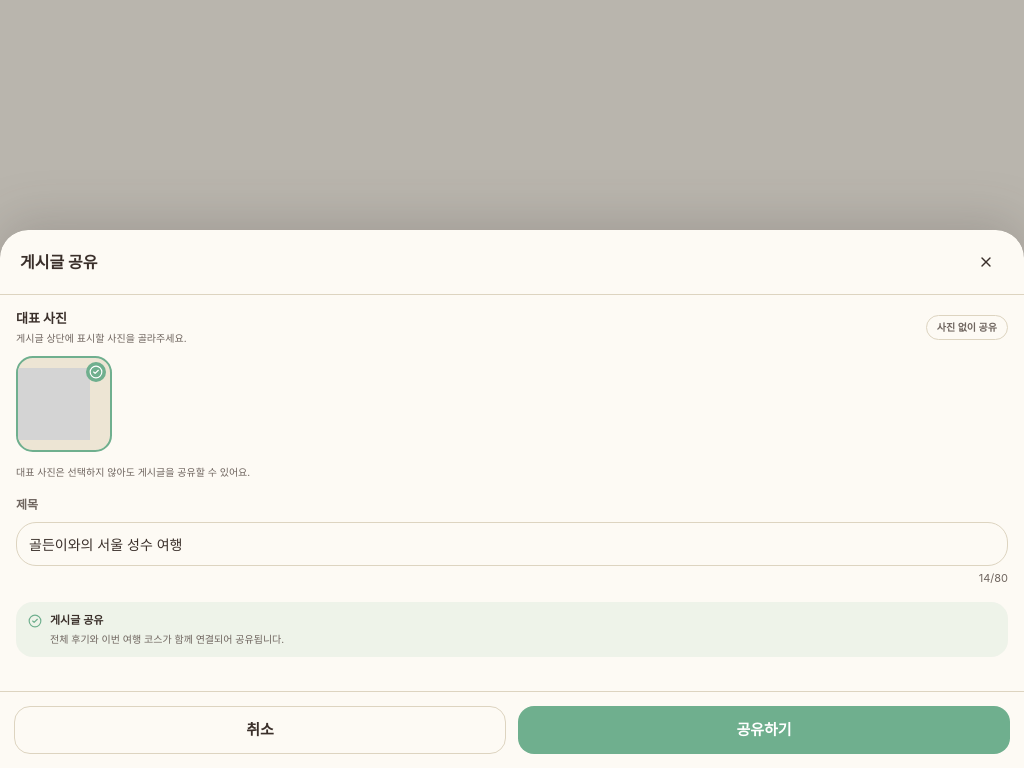
Test: PostShareSheet › slides up without a duplicate review field and shares the overall review
The image size is (1024, 768).
What coordinates should you click on to do the following:
click the button "공유하기"
I would click on:
 (764, 730)
Its box is x1=518 y1=706 x2=1010 y2=754.
(page scrolled)
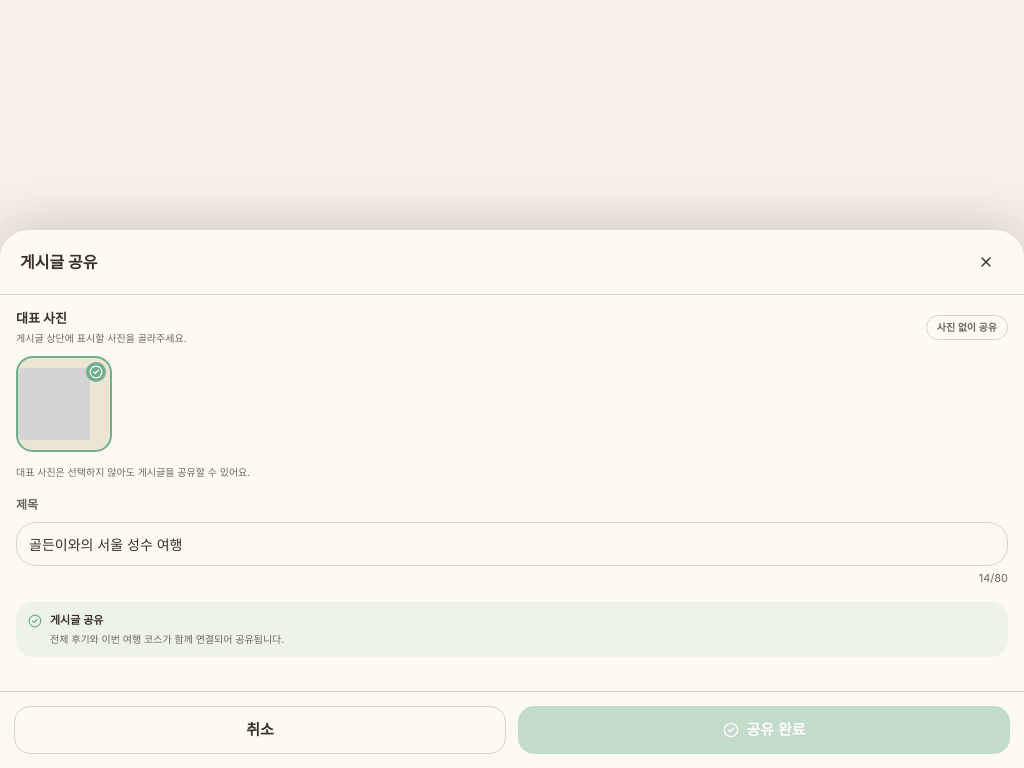
Result: the button "공유 완료" is disabled at x1=518 y1=706 x2=1010 y2=754
